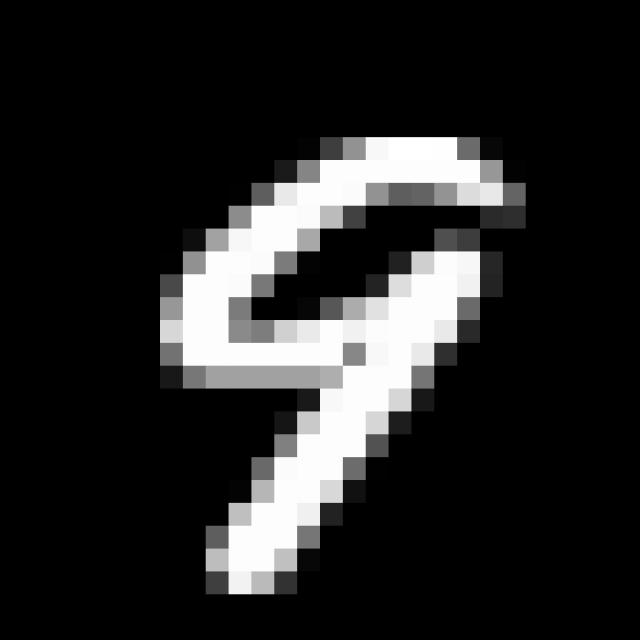nine -9-: (148, 110, 530, 610)
